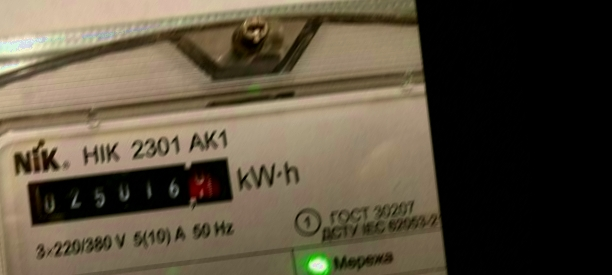0: (116, 177, 133, 201), (41, 190, 56, 213), (191, 163, 205, 185)
1: (141, 173, 155, 199), (196, 186, 205, 198)
2: (66, 184, 82, 208)
5: (92, 184, 105, 206)
6: (165, 173, 181, 200)
screen: (16, 146, 243, 233)
